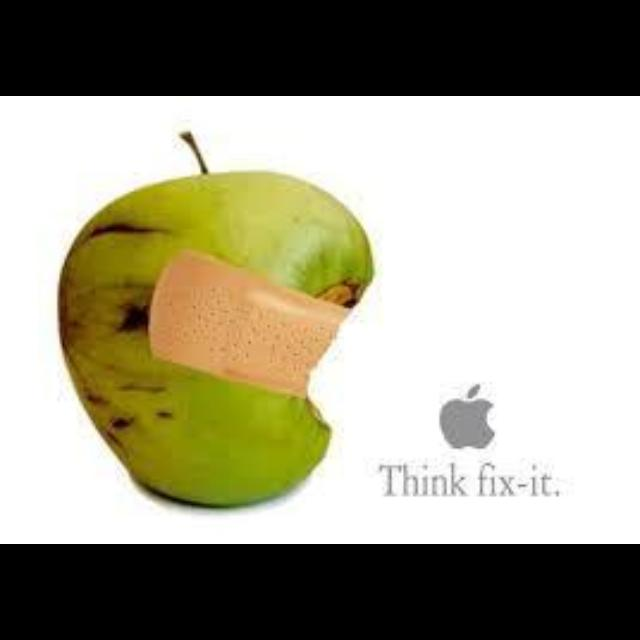apple: (60, 172, 373, 502)
scratch: (80, 222, 173, 249), (116, 299, 149, 341), (115, 386, 169, 397)
